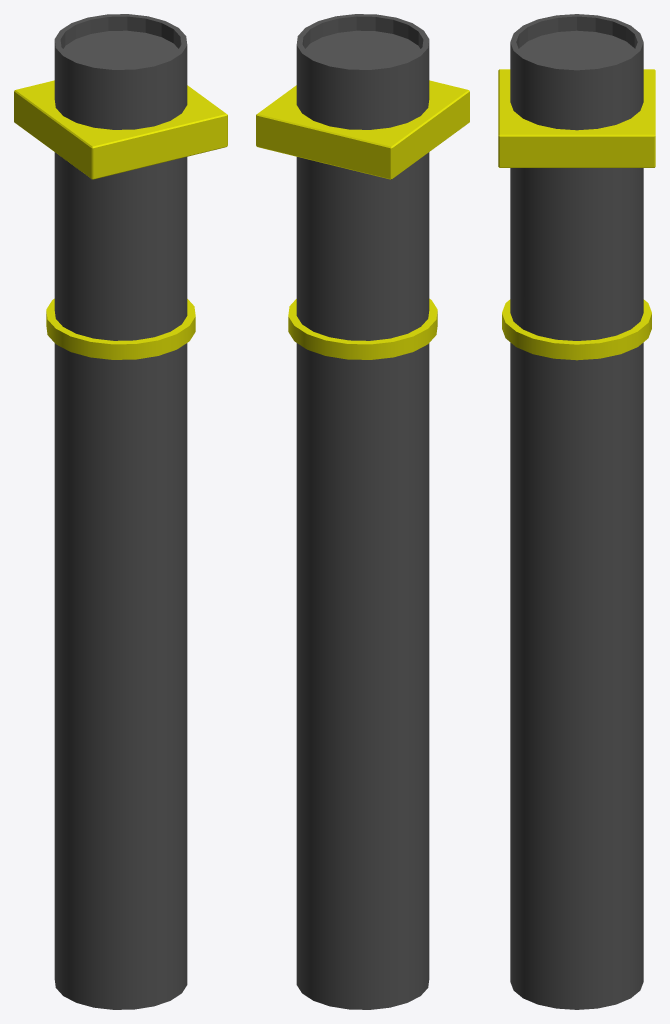
File: smoker.fbx
The picture shows the model from 3 angles, left to right: view 1: azimuth 30°, elevation 25°; view 2: azimuth 150°, elevation 25°; view 3: azimuth 270°, elevation 25°; orthographic projection.
Visible parts, largest first — view 1: smoker; view 2: smoker; view 3: smoker.
Part boxes in pixels (x1,y1,x2,y2): smoker: (14, 14, 227, 1009); smoker: (256, 14, 469, 1009); smoker: (498, 14, 655, 1009).
Size of the model in its own units: 1.82 by 11.97 by 1.82.
